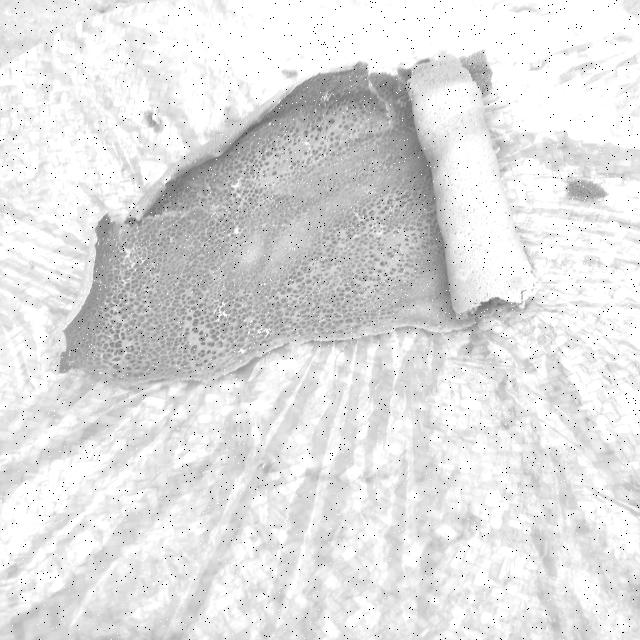injera_mold: (118, 247, 141, 271), (251, 326, 276, 344), (212, 298, 227, 320), (100, 301, 118, 317), (105, 317, 123, 333), (227, 178, 246, 192), (144, 270, 162, 284), (369, 223, 386, 237), (210, 204, 227, 218), (109, 280, 124, 295), (230, 225, 246, 238), (455, 268, 470, 280), (121, 350, 136, 362), (395, 98, 408, 111), (318, 92, 332, 104), (106, 246, 120, 256), (104, 264, 116, 274), (135, 219, 148, 228), (265, 119, 278, 128), (260, 196, 270, 207), (167, 235, 179, 244), (301, 139, 313, 147), (238, 346, 248, 355), (365, 188, 375, 195)
